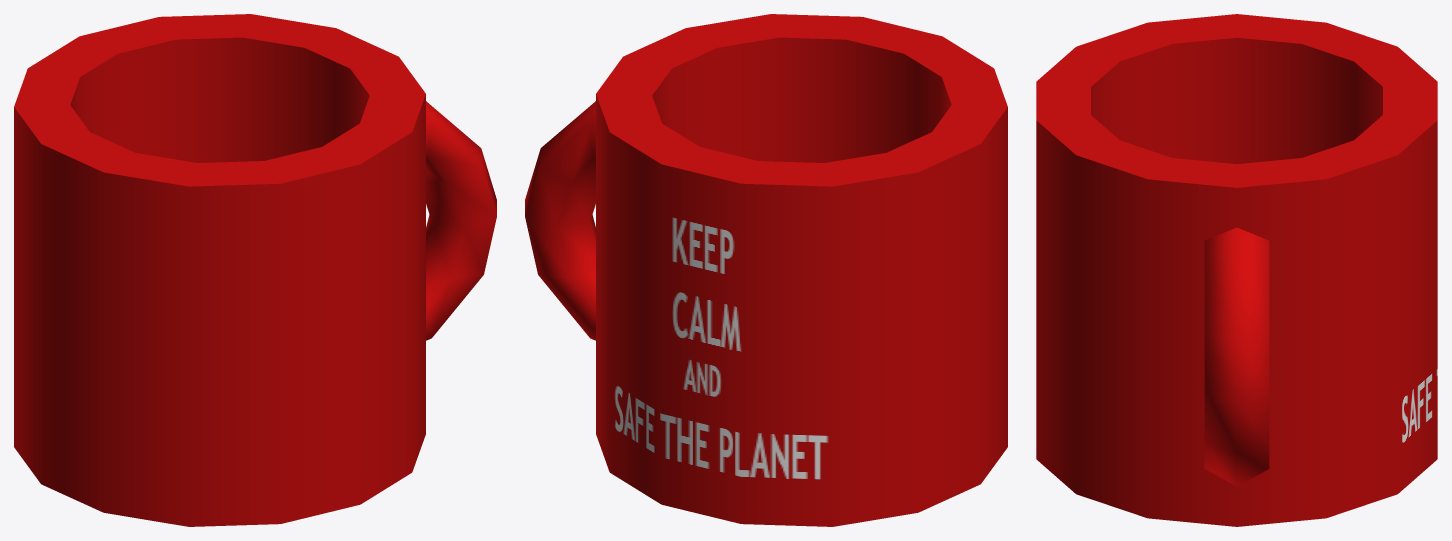
The model's file is safetheplanetmug.fbx.
The picture shows the model from 3 angles, left to right: view 1: azimuth 30°, elevation 25°; view 2: azimuth 150°, elevation 25°; view 3: azimuth 270°, elevation 25°; orthographic projection.
Parts seen in each view (by area): view 1: Cylinder_1; view 2: Cylinder_1; view 3: Cylinder_1.
Part boxes in pixels (<box>): Cylinder_1: <box>14,14,496,526</box>; Cylinder_1: <box>525,14,1007,526</box>; Cylinder_1: <box>1036,14,1437,526</box>.
Size of the model in its own units: 28.02 by 20 by 21.45.
Materials: 1 (1 with a texture image).
